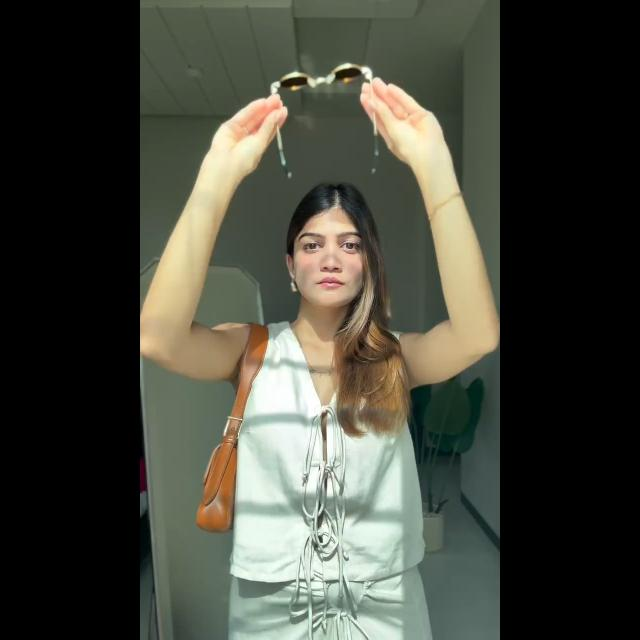dress: (235, 324, 423, 640)
ear ring: (288, 278, 294, 288)
glasses: (268, 58, 380, 182)
handbag: (196, 312, 266, 536)
